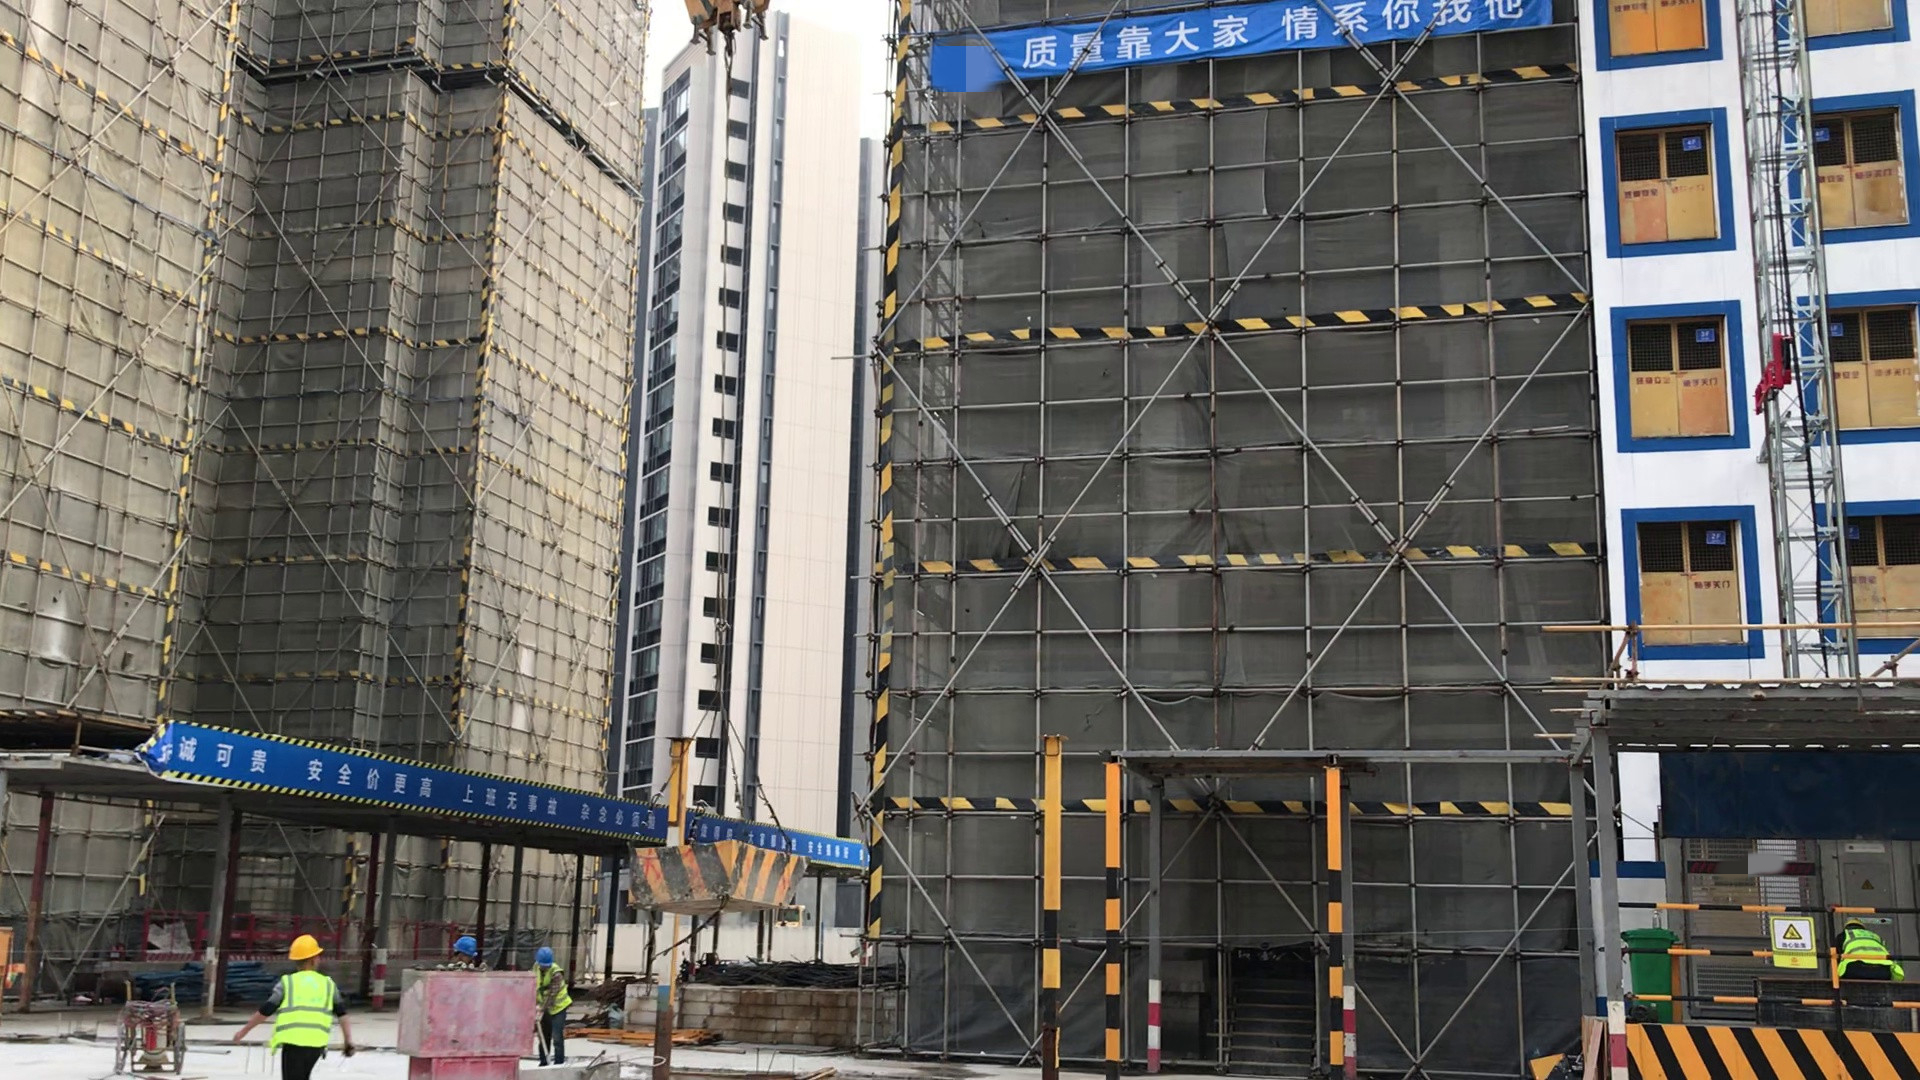fence: (142, 912, 456, 963)
handcart: (119, 980, 189, 1069)
helmet: (288, 934, 323, 961), (451, 936, 478, 956), (535, 948, 553, 966)
hook: (687, 1, 773, 54)
hopper: (629, 841, 798, 922)
person: (235, 933, 353, 1080), (531, 947, 572, 1065), (1835, 920, 1899, 980)
slogan: (158, 716, 870, 869), (1020, 1, 1554, 84)
vest: (271, 970, 335, 1055), (1835, 928, 1903, 979), (538, 965, 571, 1015)
